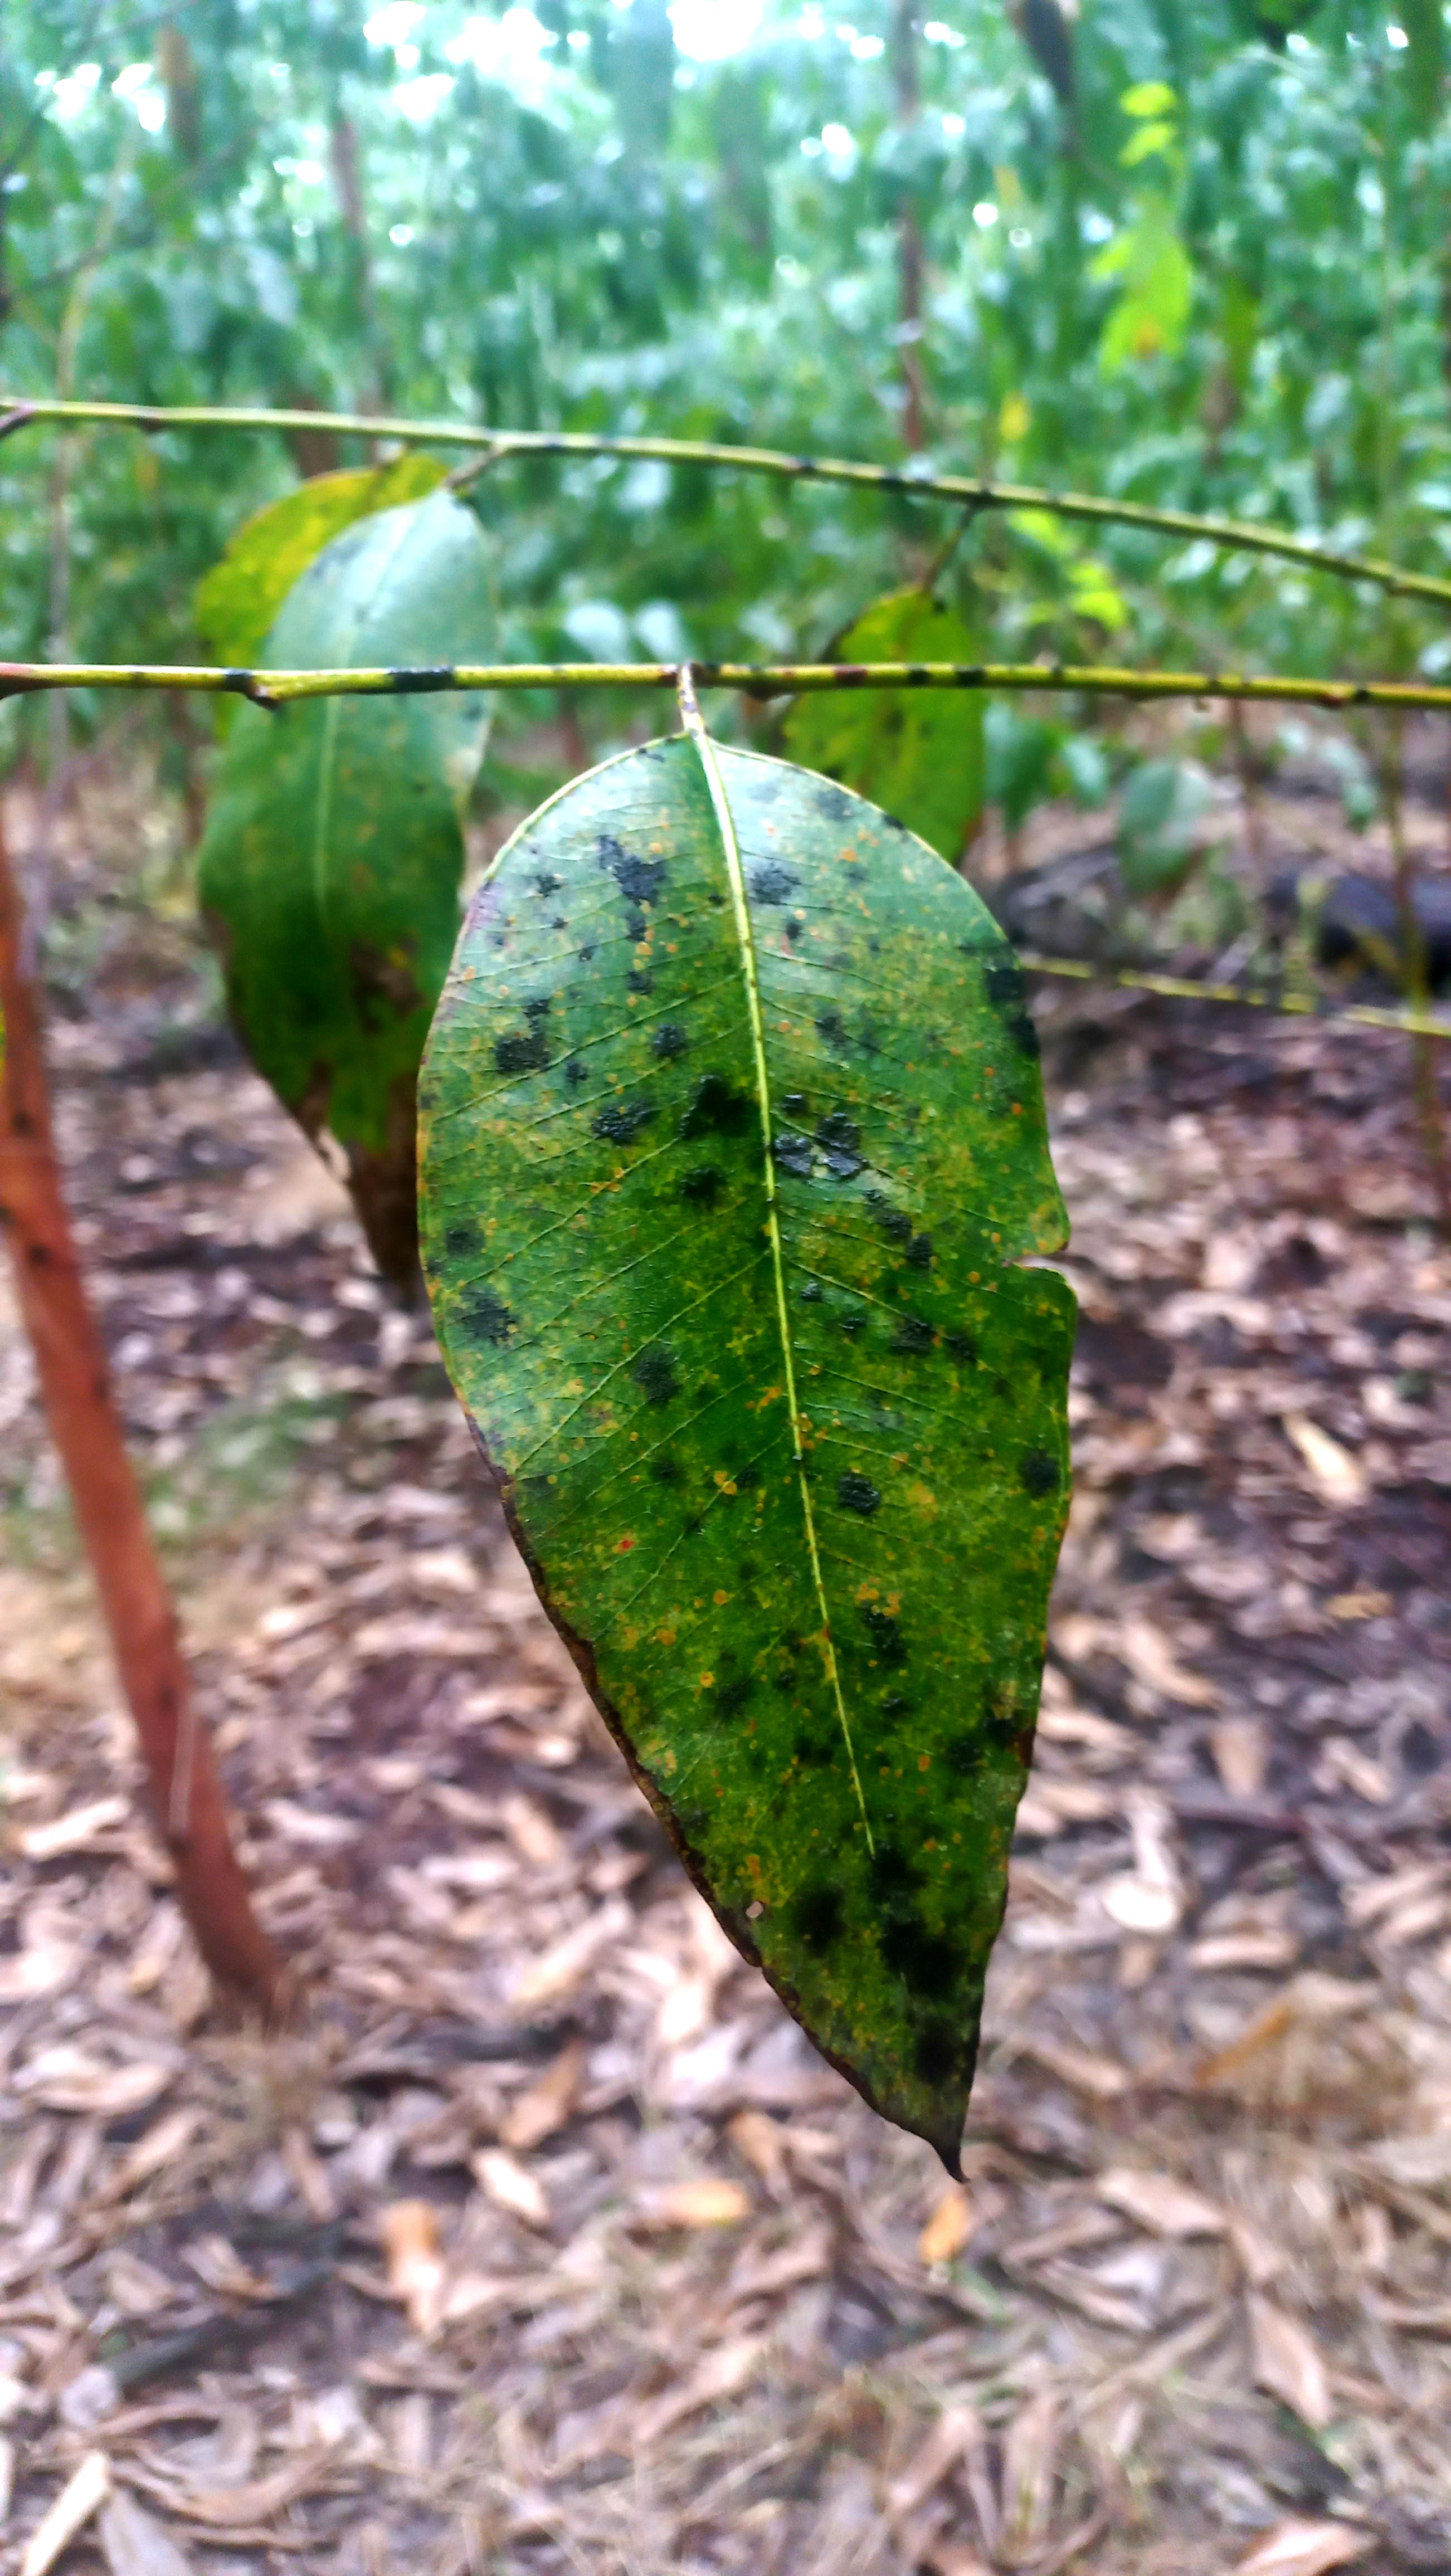Cylindrocladium: (294, 929, 446, 1332)
Embun Jelaga: (414, 708, 1086, 2173)
